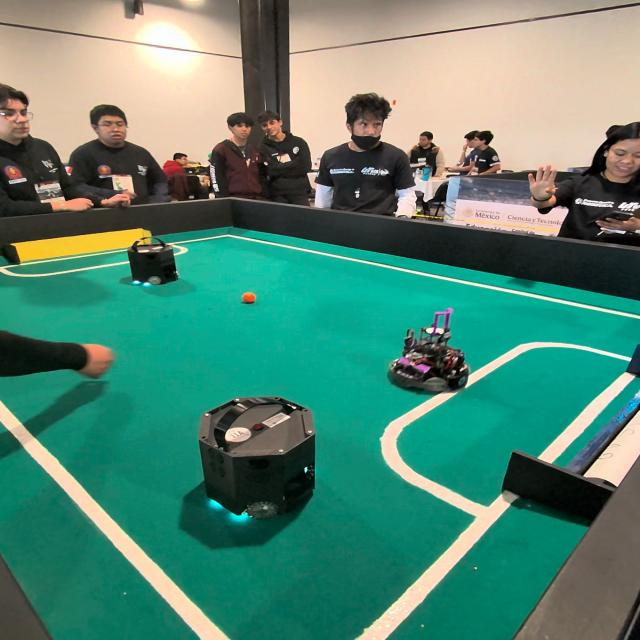Robot: (194, 380, 317, 544), (389, 312, 470, 397), (122, 230, 180, 296)
pelota: (243, 291, 256, 302)
